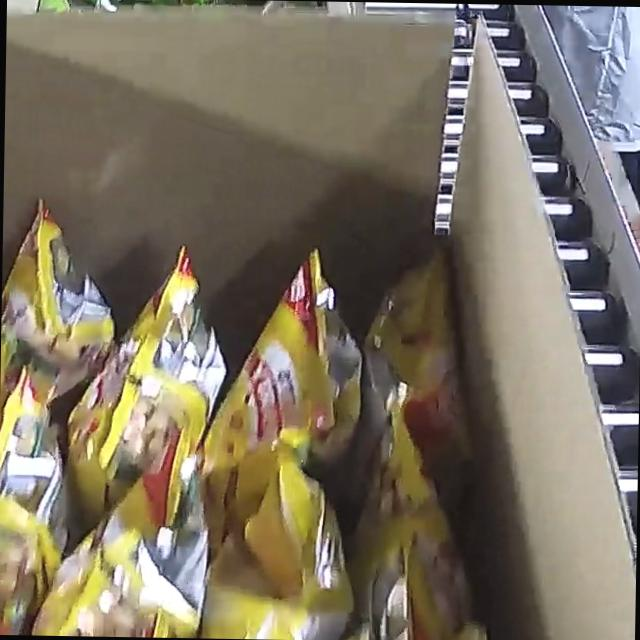salted: (0, 193, 522, 640)
yogurt: (14, 0, 303, 42)
